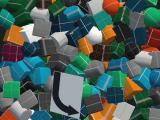Left: (50, 70, 84, 120)
